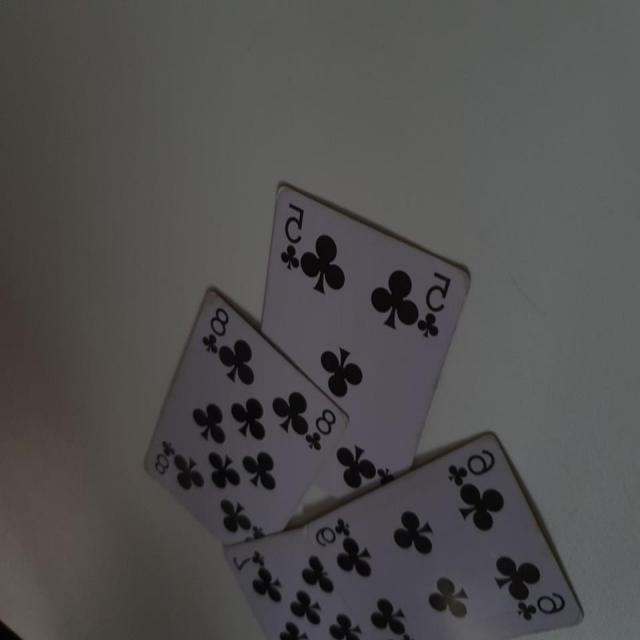5 of clubs: (261, 183, 473, 504)
6 of clubs: (302, 432, 585, 640)
7 of clubs: (223, 525, 363, 640)
8 of clubs: (146, 288, 352, 550)
